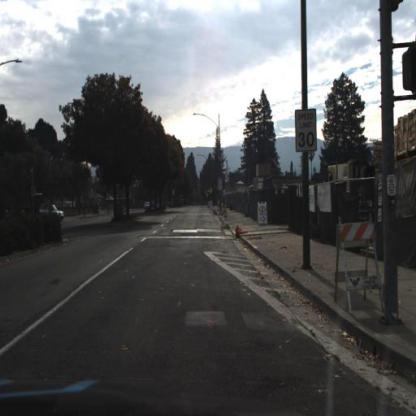car: (39, 202, 68, 220), (142, 200, 153, 214)
